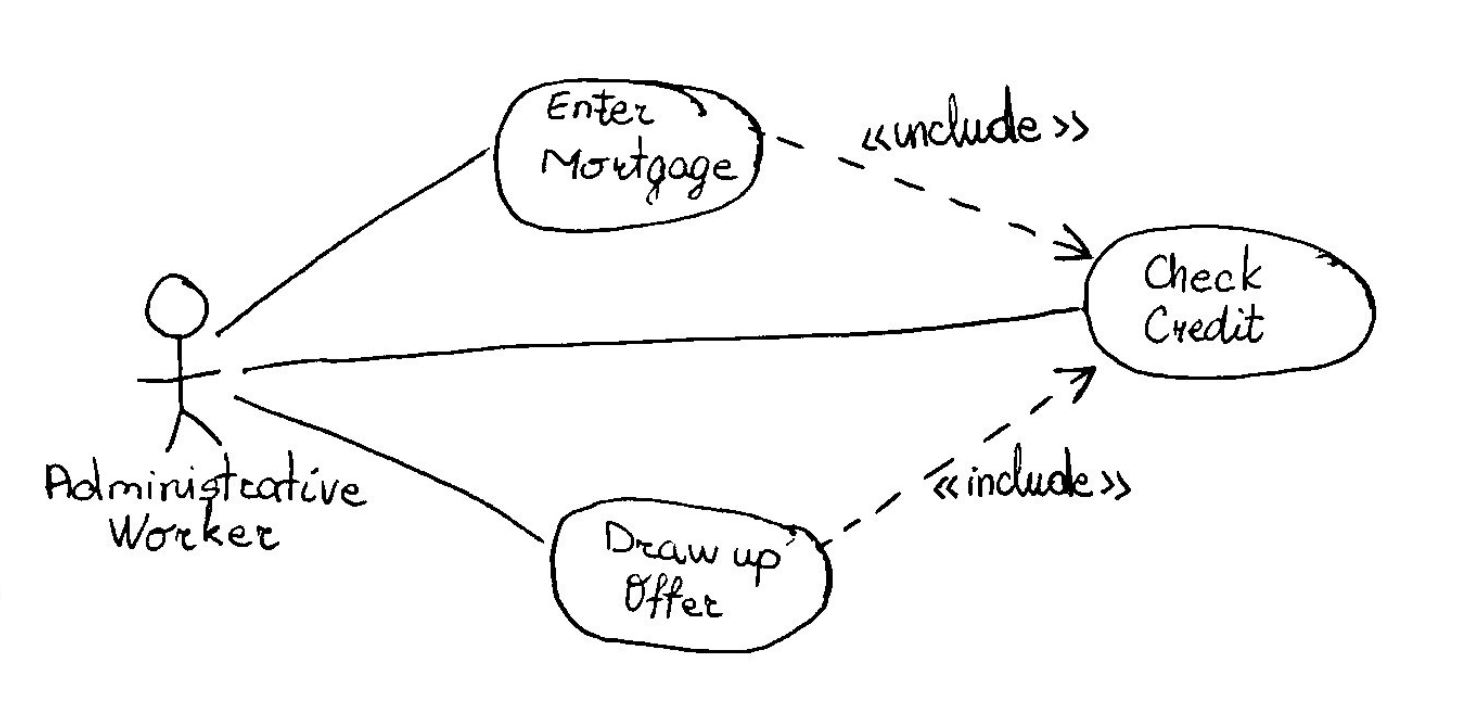actor: (136, 270, 229, 459)
association: (244, 299, 1089, 380), (823, 357, 1104, 545), (217, 142, 488, 336), (235, 393, 549, 546), (760, 127, 1096, 265)
text: (41, 448, 375, 555), (529, 87, 741, 206), (598, 519, 793, 629), (857, 82, 1099, 154), (930, 438, 1135, 508), (1139, 258, 1276, 349)
use_case: (1083, 227, 1376, 380), (545, 498, 831, 654), (493, 78, 761, 233)
